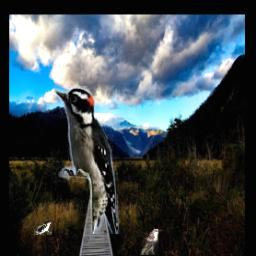Cuckoo: (140, 230, 159, 256)
Woodpecker: (54, 87, 120, 235), (35, 219, 52, 235)
